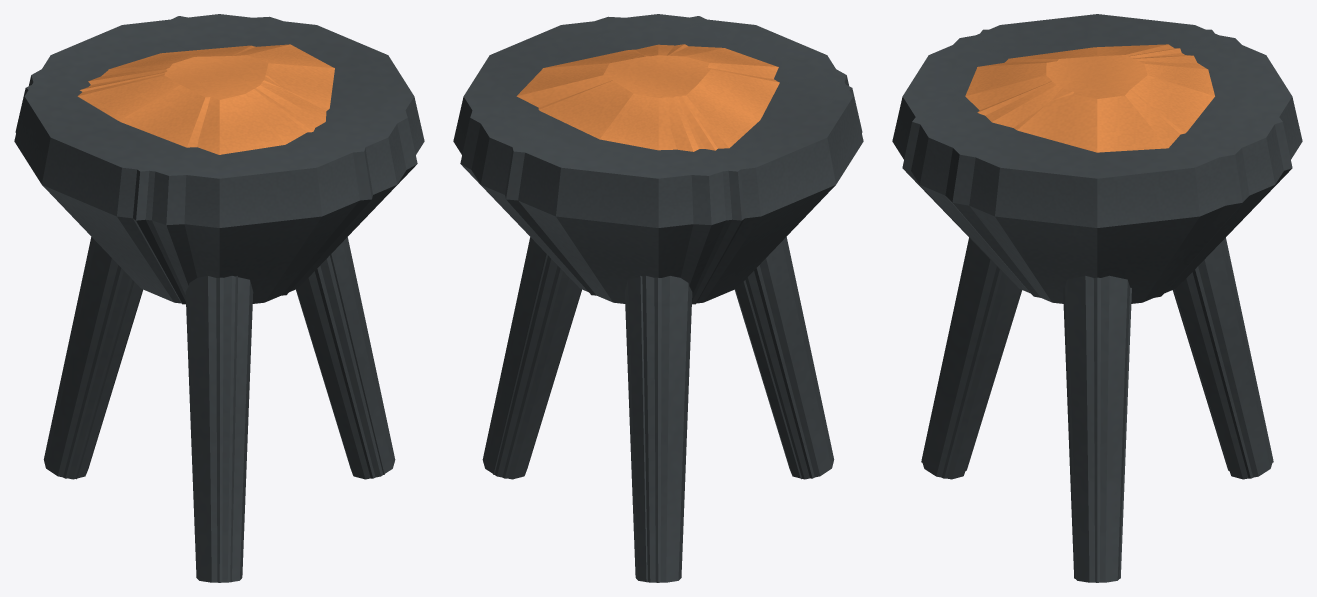
File: Brazier.fbx
3 renders of one model, left to right at view 1: azimuth 30°, elevation 25°; view 2: azimuth 150°, elevation 25°; view 3: azimuth 270°, elevation 25°, orthographic.
Visible parts, largest first — view 1: BrazierDetail0, BrazierDetail1, BrazierDetail2; view 2: BrazierDetail0, BrazierDetail1, BrazierDetail2; view 3: BrazierDetail0, BrazierDetail1, BrazierDetail2.
Boxes of the visible parts, x1,y1,x2,y2 form: BrazierDetail0: [14, 14, 424, 582]; BrazierDetail1: [29, 16, 417, 582]; BrazierDetail2: [15, 16, 387, 582]; BrazierDetail0: [453, 14, 863, 582]; BrazierDetail1: [460, 16, 848, 582]; BrazierDetail2: [490, 16, 862, 582]; BrazierDetail0: [892, 14, 1302, 582]; BrazierDetail1: [903, 14, 1290, 582]; BrazierDetail2: [902, 29, 1292, 578].
Size of the model in its own units: 88 by 103 by 88.
1 material, 1 textured.
